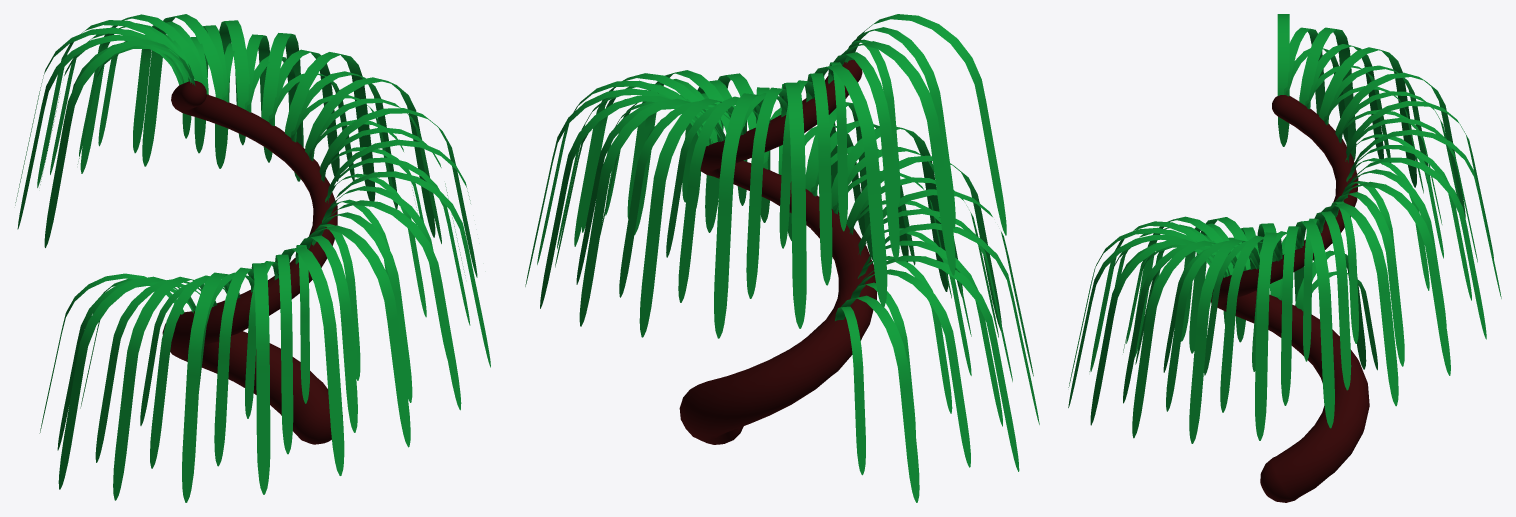
The model's file is plant3.fbx.
3 renders of one model, left to right at view 1: azimuth 30°, elevation 25°; view 2: azimuth 150°, elevation 25°; view 3: azimuth 270°, elevation 25°, orthographic. The views are drawn at different scales.
Visible parts, largest first — view 1: Leaves, Stem_2; view 2: Leaves, Stem_2; view 3: Leaves, Stem_2.
Part boxes in pixels (x1,y1,x2,y2): Leaves: (15,14,490,502); Stem_2: (162,81,342,444); Leaves: (525,14,1039,502); Stem_2: (679,60,876,444); Leaves: (1068,14,1501,443); Stem_2: (1211,95,1369,502).
Bounding box in the file's own units: 2.15 × 2.17 × 2.14.
